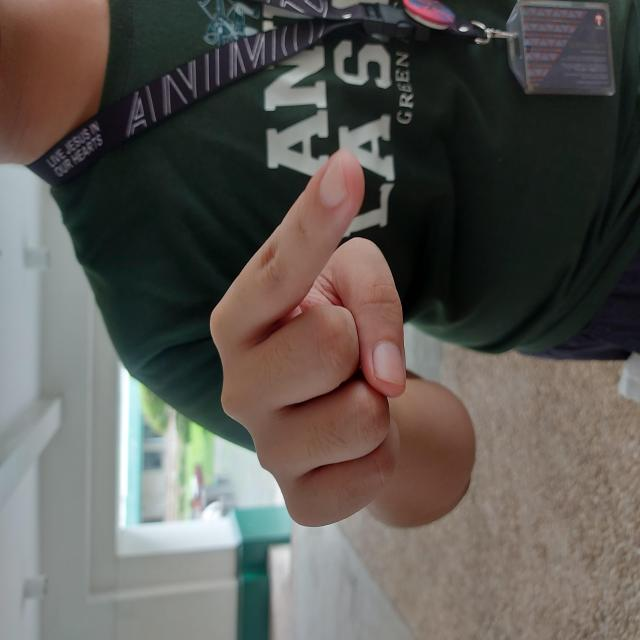Z: (110, 208, 492, 406)
